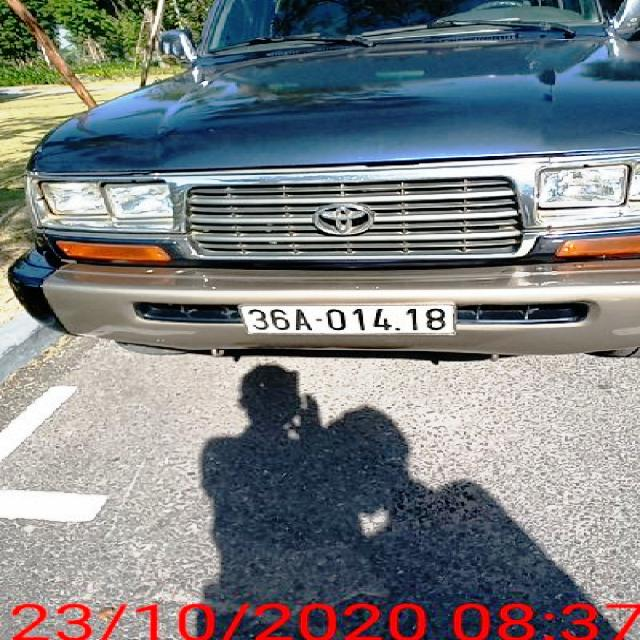license_plate: (244, 306, 459, 338)
